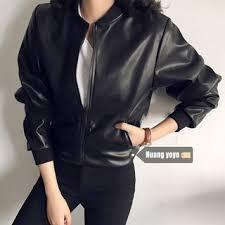jacket: (13, 0, 221, 172)
